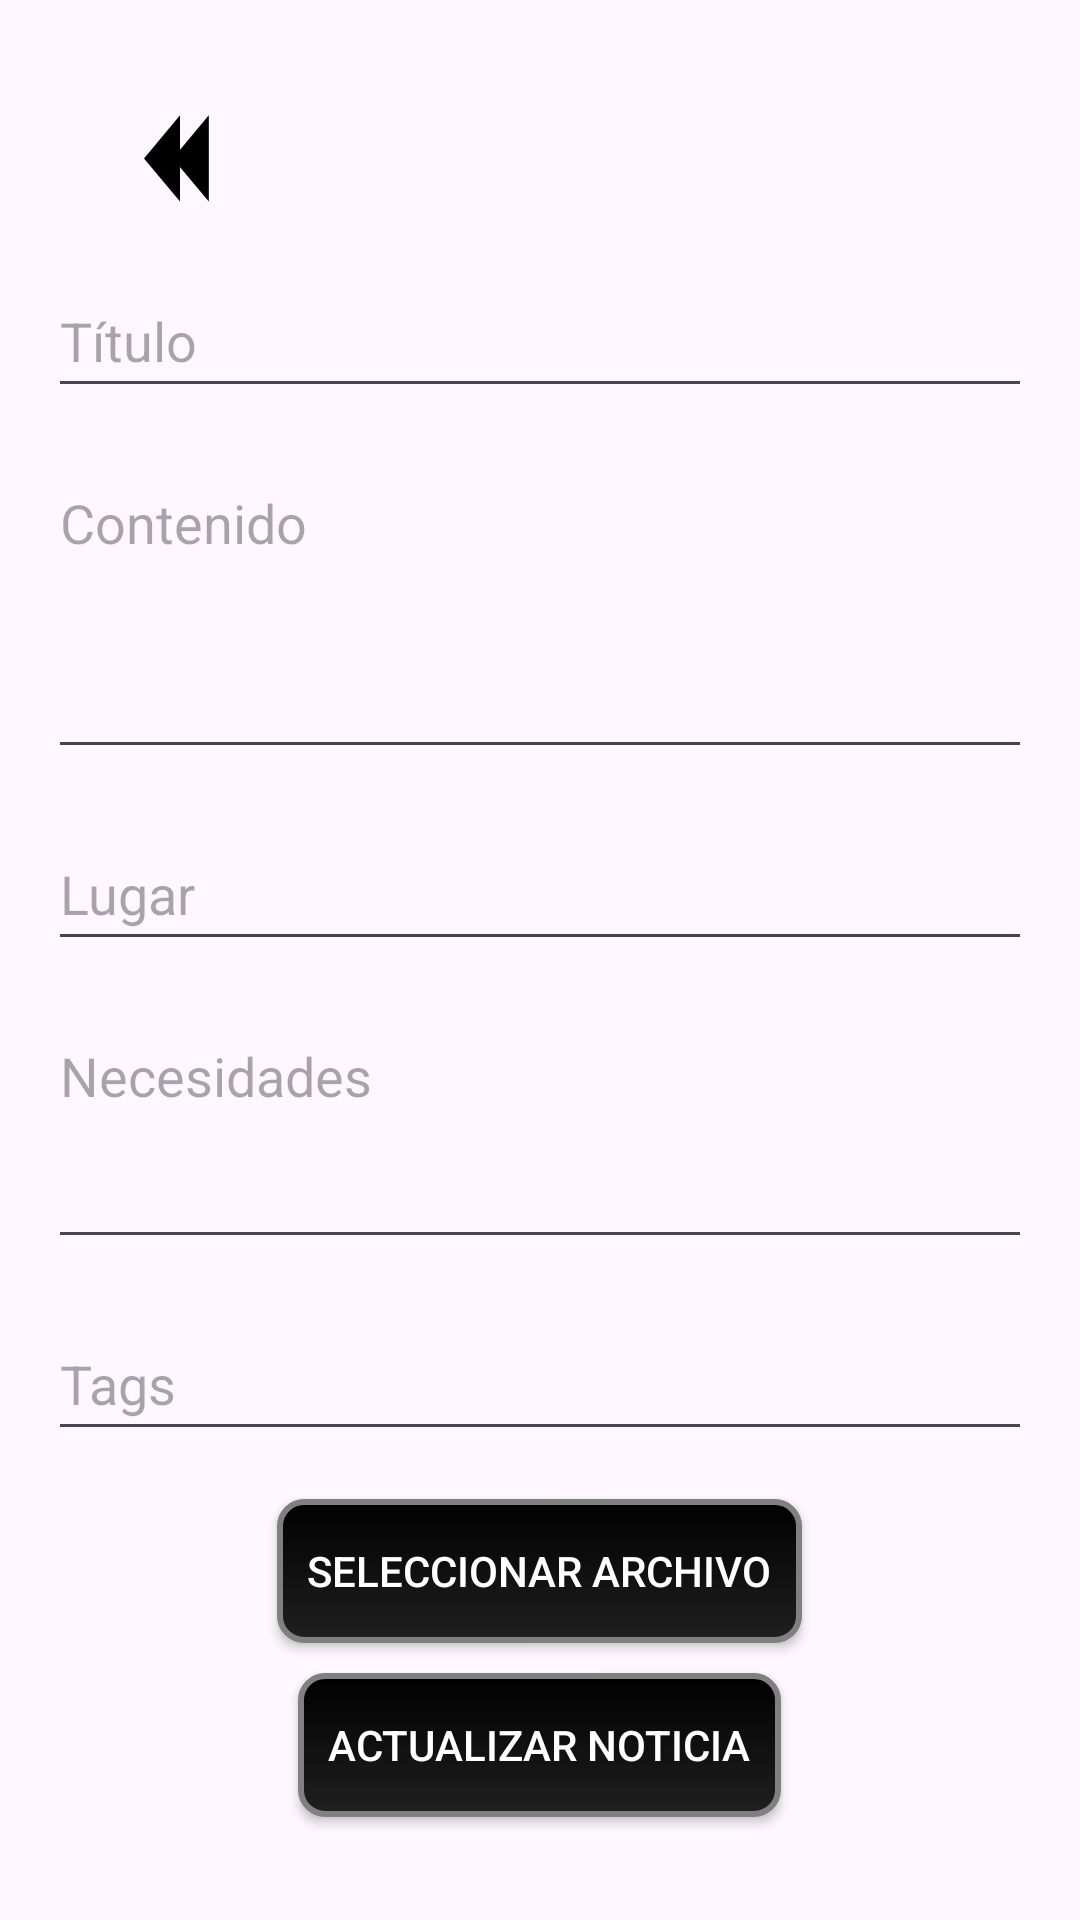

Icon bounding boxes for this 1080x1920 phone screenshot, format box=[x1, y1, x2, y2]:
Regresar: box=[144, 115, 209, 202]
